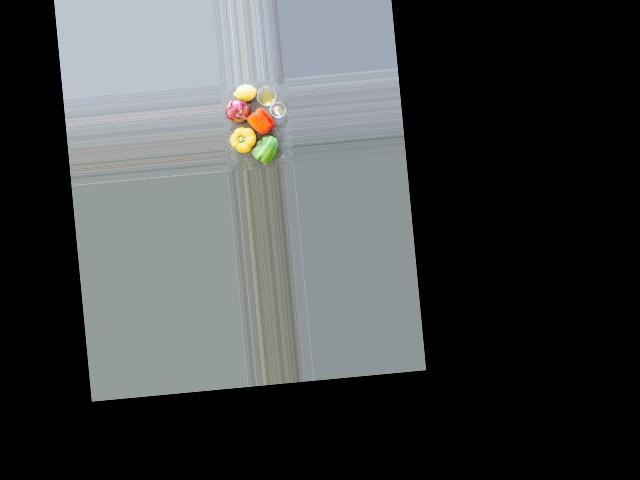bell_pepper: (245, 106, 276, 135)
